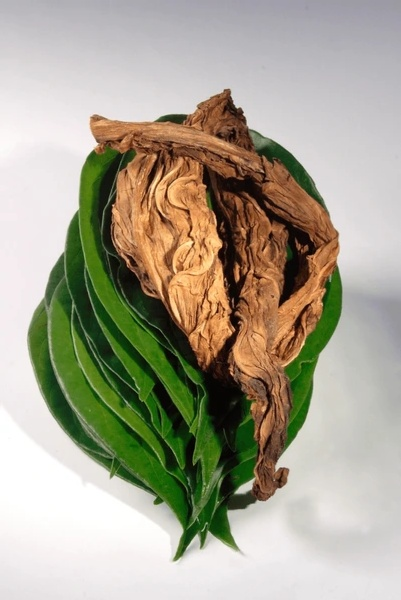bulathwita: (26, 90, 342, 565)
